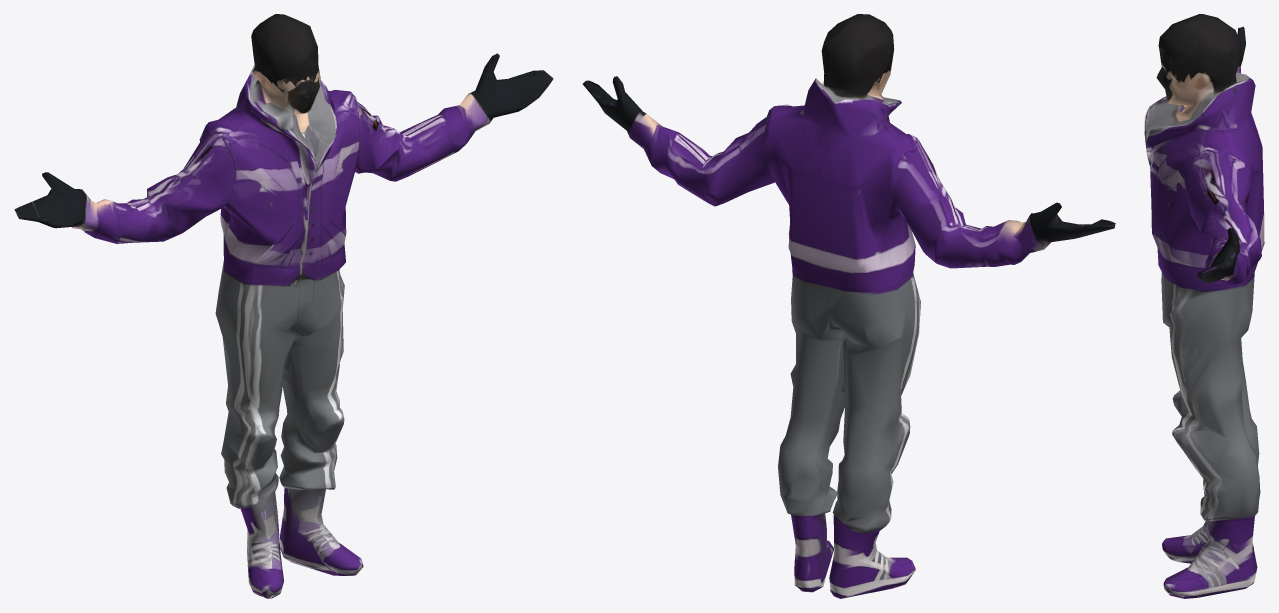
Rendered from rally_pilot.glb.
3 views of the same model, side by side, from view 1: azimuth 30°, elevation 25°; view 2: azimuth 150°, elevation 25°; view 3: azimuth 270°, elevation 25° (orthographic).
Bounding box in the file's own units: 1.88 × 1.9 × 0.373.
1 material, 1 textured.
